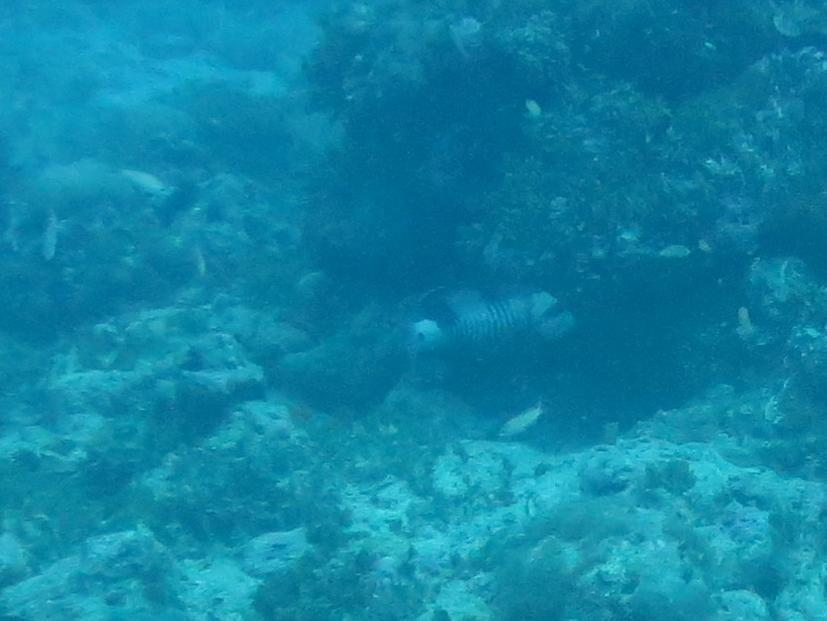Fish: (391, 259, 595, 383)
